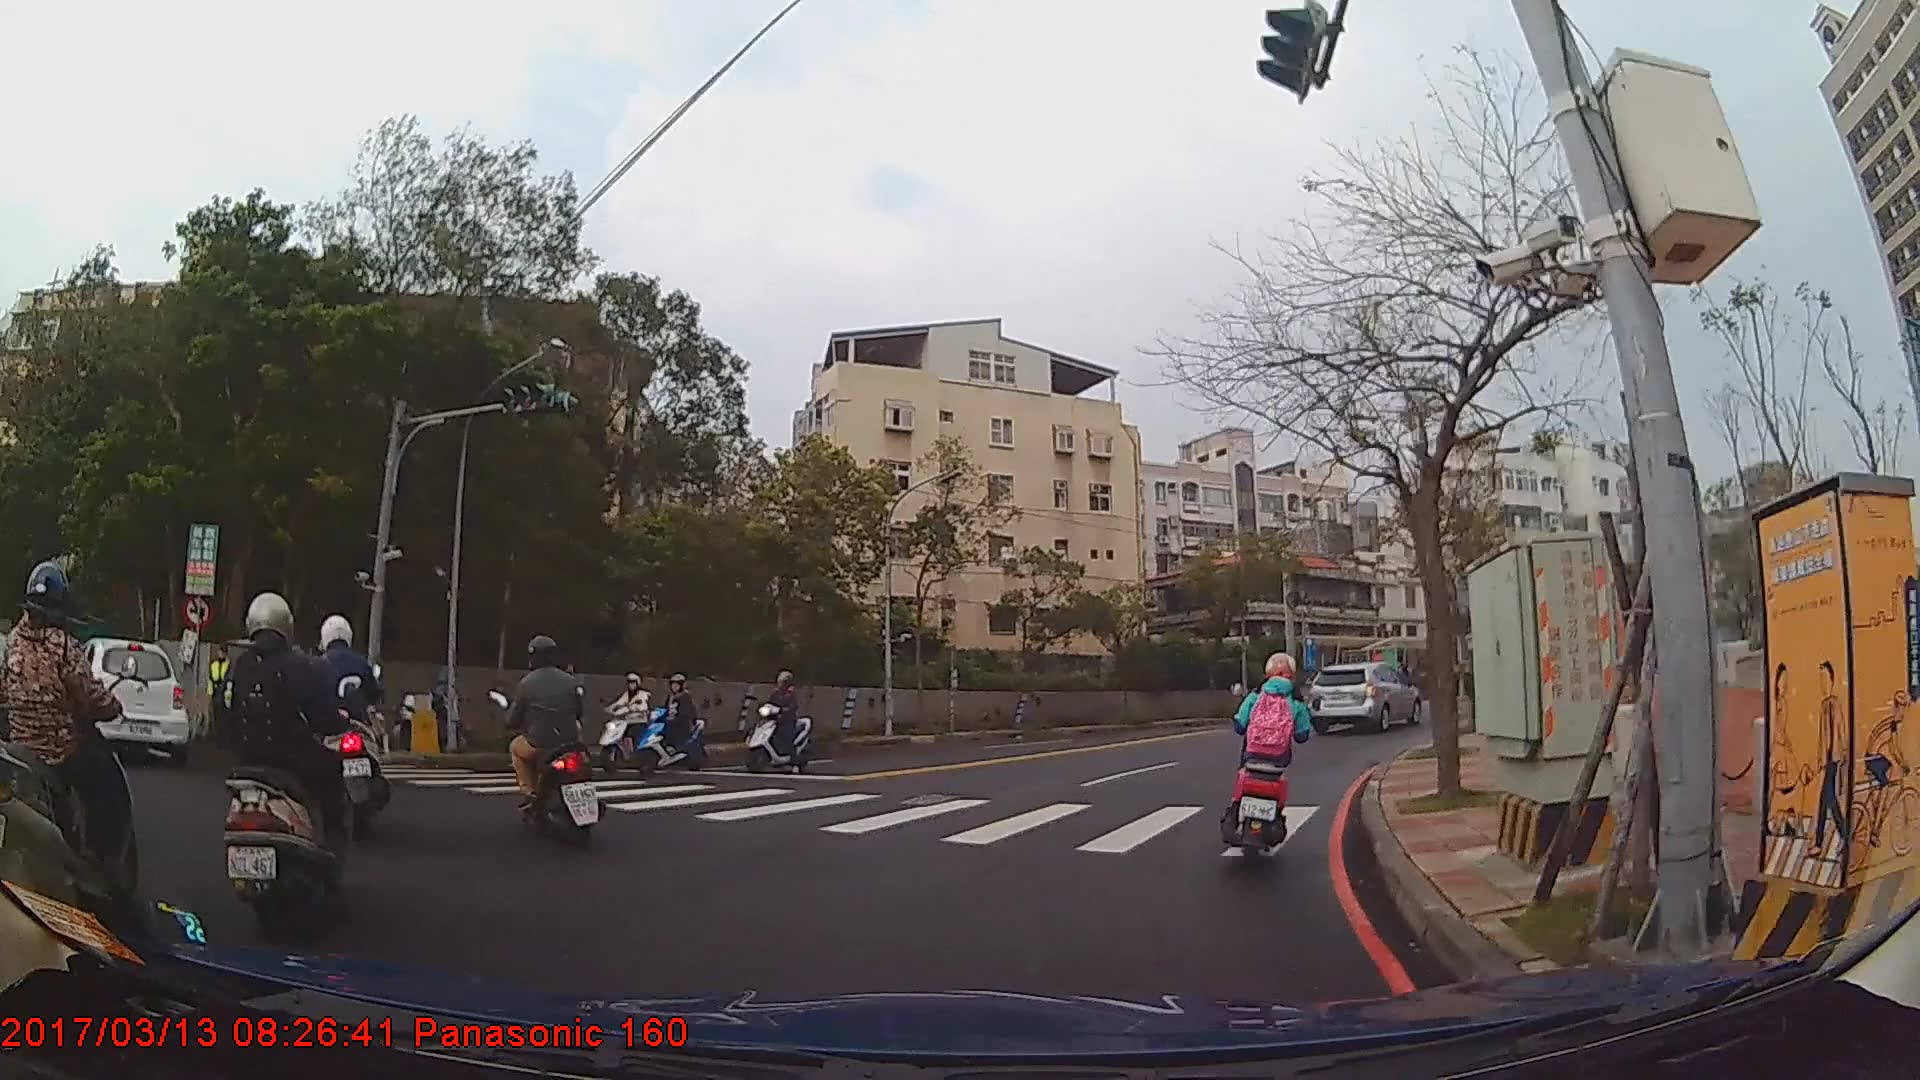pedestrian: (204, 641, 243, 752)
rider: (1, 557, 144, 952), (218, 592, 355, 924), (493, 636, 604, 855), (305, 617, 393, 847), (1227, 654, 1316, 857), (743, 671, 812, 773), (637, 673, 706, 774), (599, 674, 660, 767)
vehicle: (60, 637, 186, 759), (1305, 662, 1422, 735)
